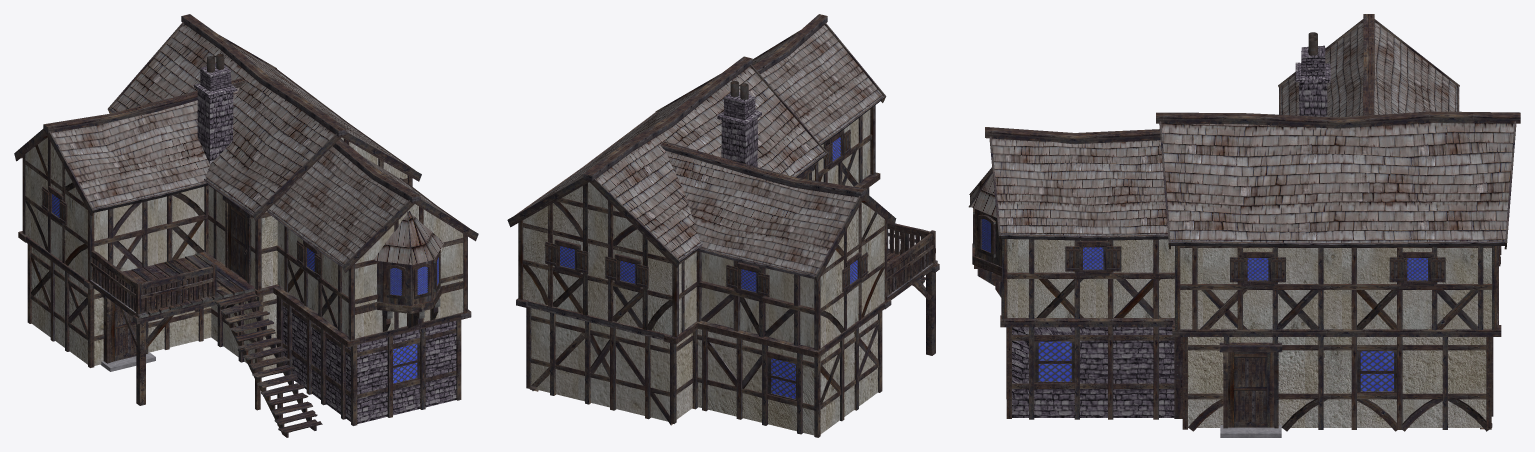
Rendered from casa_medieval_02.glb.
The picture shows the model from 3 angles, left to right: view 1: azimuth 30°, elevation 25°; view 2: azimuth 150°, elevation 25°; view 3: azimuth 270°, elevation 25°; orthographic projection. The views are drawn at different scales.
Parts seen in each view (by area): view 1: BackBalcony; view 2: BackBalcony; view 3: BackBalcony.
Part boxes in pixels (x1,y1,x2,y2): BackBalcony: (14,14,478,437); BackBalcony: (507,14,939,437); BackBalcony: (968,14,1520,437).
Size of the model in its own units: 9.53 by 8.87 by 13.53.
Materials: 12 (12 with a texture image).
